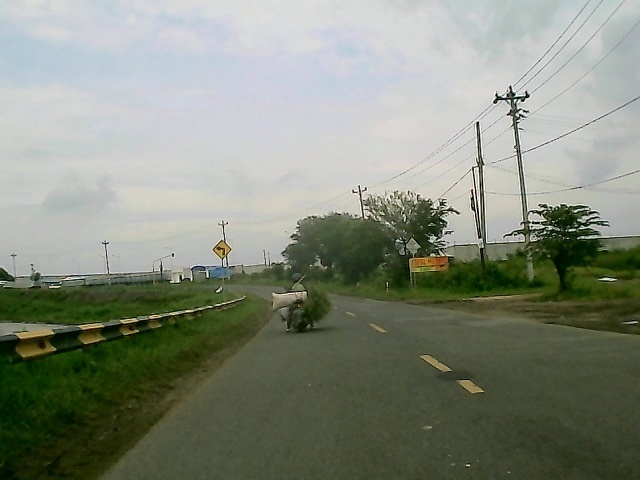Tikungan tajam ke kiri: (211, 239, 233, 261)
